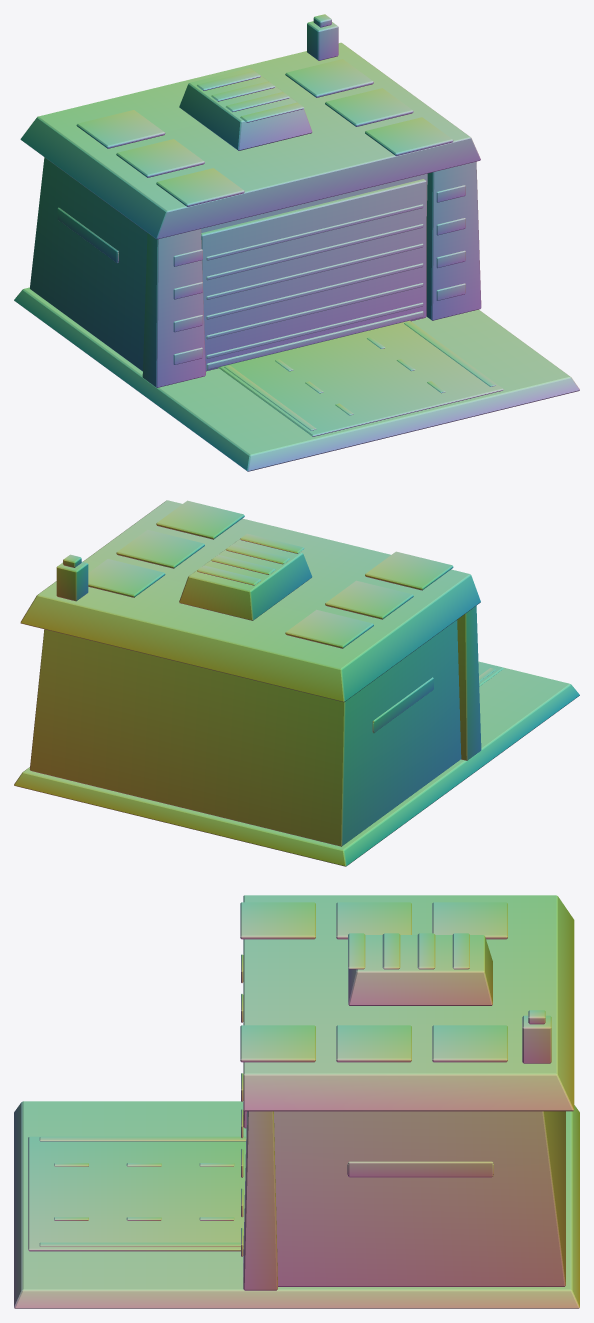
Rendered from factory_lighttank_rig.glb.
The picture shows the model from 3 angles, top to bottom: view 1: azimuth 30°, elevation 25°; view 2: azimuth 150°, elevation 25°; view 3: azimuth 270°, elevation 25°; orthographic projection. The views are drawn at different scales.
Parts seen in each view (by area): view 1: body, door; view 2: body; view 3: body.
Boxes of the visible parts, box(x1,y1,x2,y2) form: body: box(14, 14, 579, 471); door: box(201, 179, 426, 371); body: box(14, 500, 579, 866); body: box(14, 895, 579, 1308).
Size of the model in its own units: 15.96 by 10.3 by 19.46.
